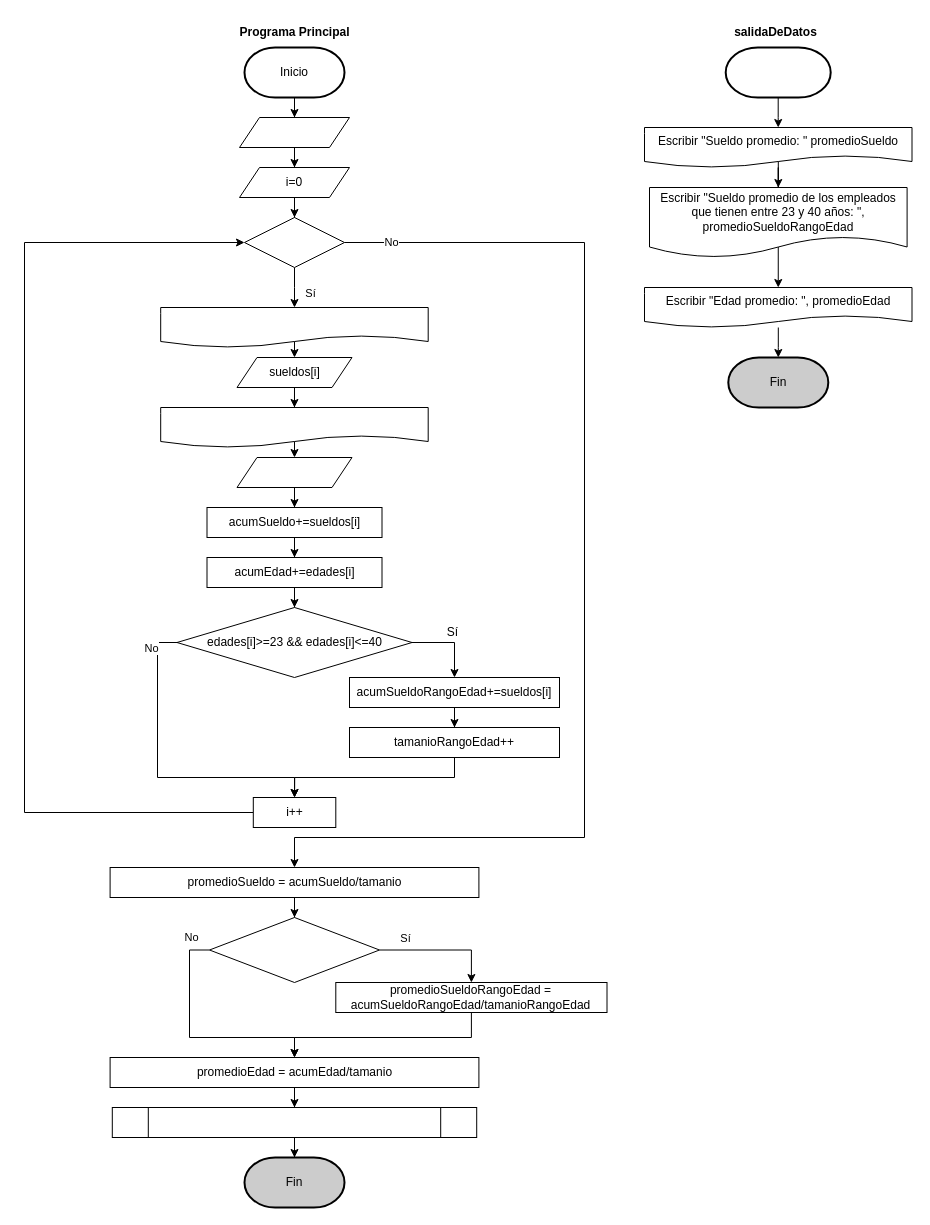
Some shapes in this 930 by 1225 pixel diagram are drawn without their labels. Here are the shapes that lost their labels. From the top down, the centre of each, then its label:
(777,72): Sub salidaDeDatos
(294,132): tamanio=10
(294,242): i<tamanio
(294,327): "Ingrese el sueldo del empleado ", i+1, ": "
(294,427): "Ingrese la edad del empleado ", i+1, ": "
(294,472): edades[i]
(294,949): tamanioRangoEdad>0
(294,1122): salidaDeDatos(promedioSueldo, promedioSueldoRangoEdad, promedioEdad)
